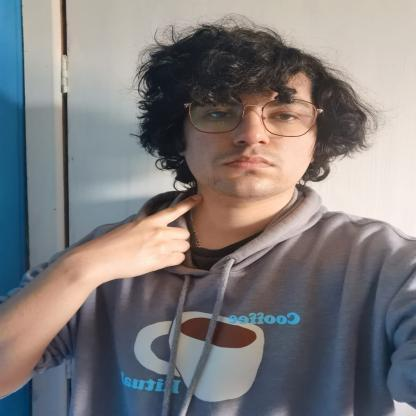Q: (79, 192, 204, 278)
